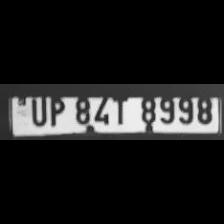4: (91, 93, 111, 125)
8: (136, 92, 156, 126), (71, 94, 91, 124), (194, 95, 212, 125)
9: (157, 93, 175, 125), (176, 94, 194, 124)
P: (46, 93, 66, 126)
T: (111, 92, 131, 126)
U: (26, 93, 48, 126)
